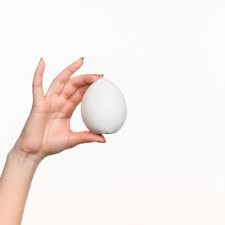eggs: (79, 71, 125, 139)
